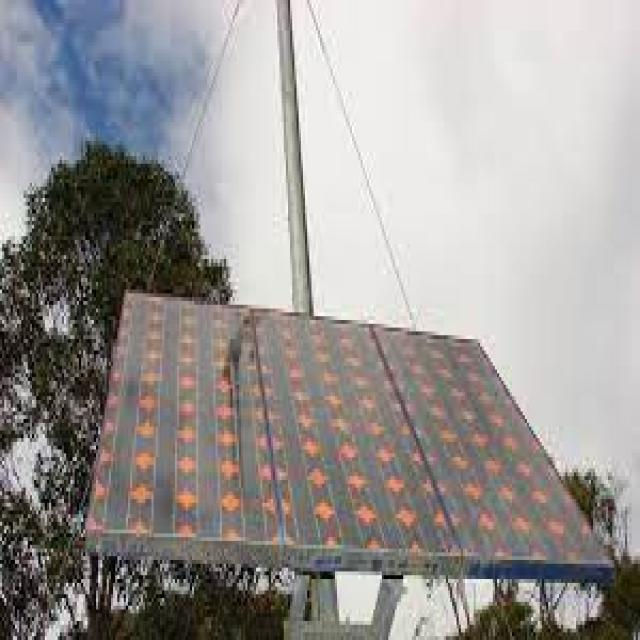faulty: (104, 294, 531, 557)
